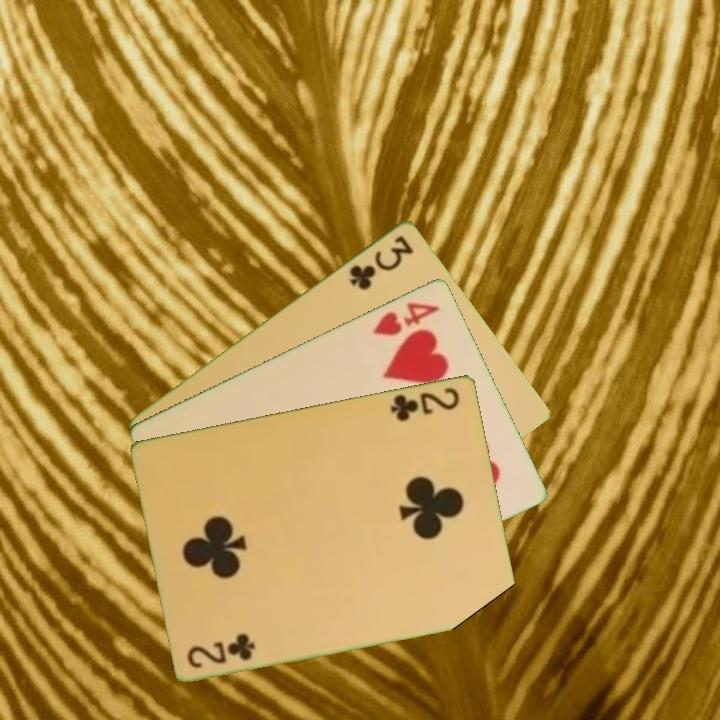2c: (387, 383, 463, 424), (184, 632, 259, 671)
3c: (345, 231, 417, 293)
4h: (369, 298, 442, 338)
